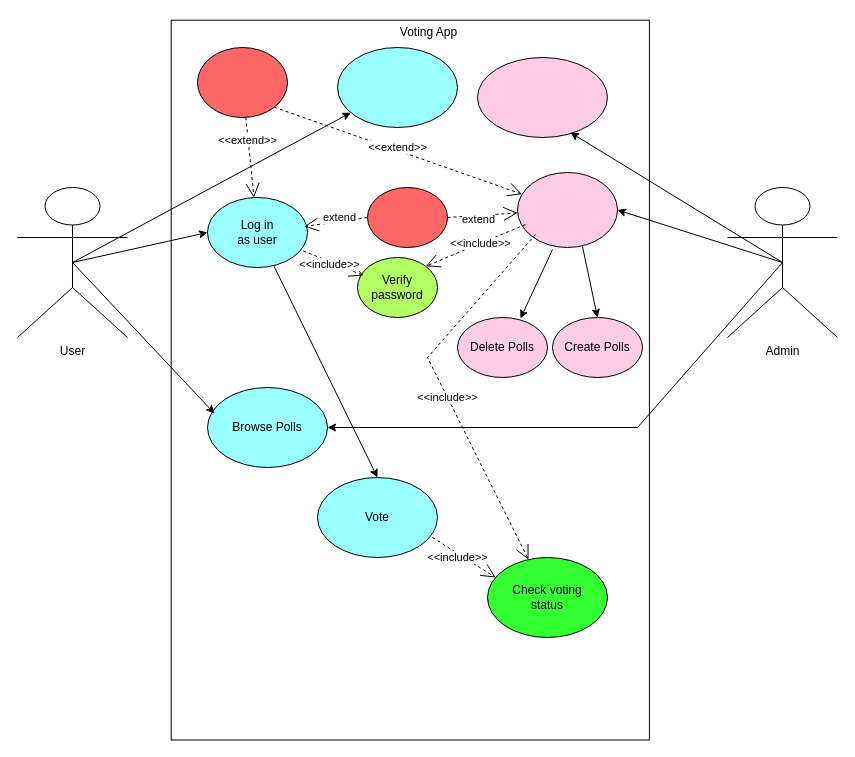
Some shapes in this 855 by 757 pixel diagram are drawn without their labels. The box of each missing label's shape, as (x1, y1, x2, y2) in pixels:
Create admin account: (476, 56, 608, 138)
Create user account: (336, 46, 458, 128)
Display login error: (366, 186, 448, 248)
Log in as admin: (516, 172, 618, 248)
No account error: (196, 46, 288, 118)
